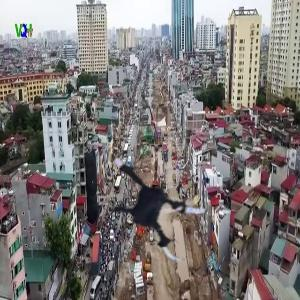drone: (97, 141, 226, 270)
